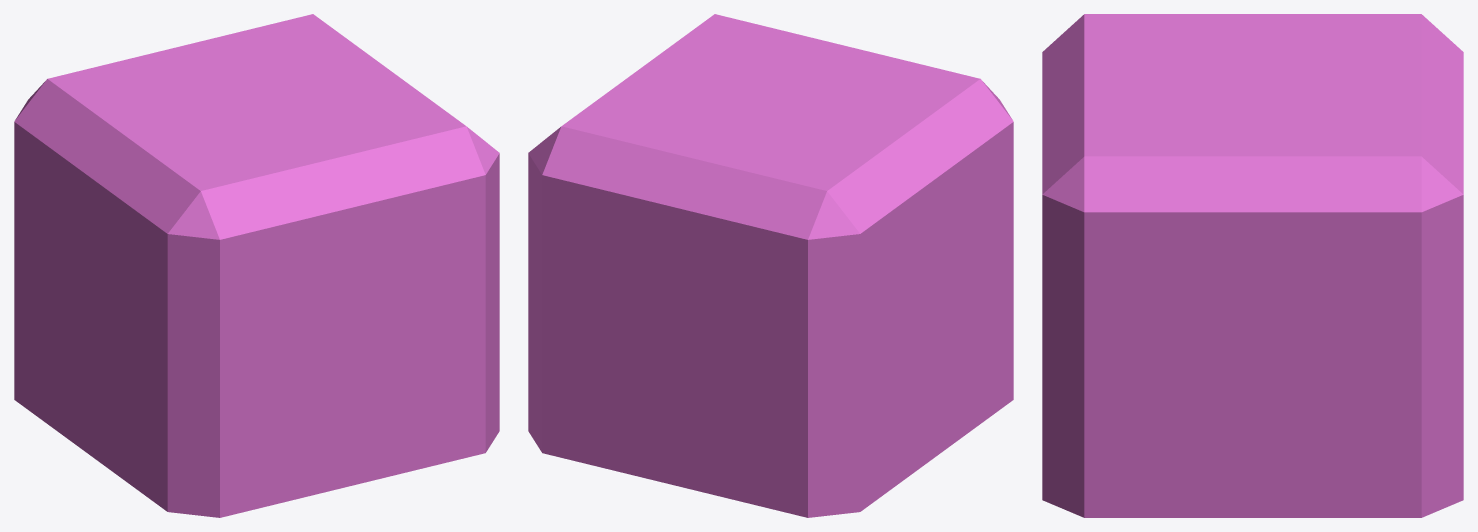
File: GroundBlock.fbx
3 renders of one model, left to right at view 1: azimuth 30°, elevation 25°; view 2: azimuth 150°, elevation 25°; view 3: azimuth 270°, elevation 25°, orthographic. The views are drawn at different scales.
Parts seen in each view (by area): view 1: GroundBlock; view 2: GroundBlock; view 3: GroundBlock.
Boxes of the visible parts, x1=… form: GroundBlock: x1=14, y1=14, x2=499, y2=517; GroundBlock: x1=528, y1=14, x2=1013, y2=517; GroundBlock: x1=1042, y1=14, x2=1463, y2=517.
Bounding box in the file's own units: 200 × 180 × 200.
